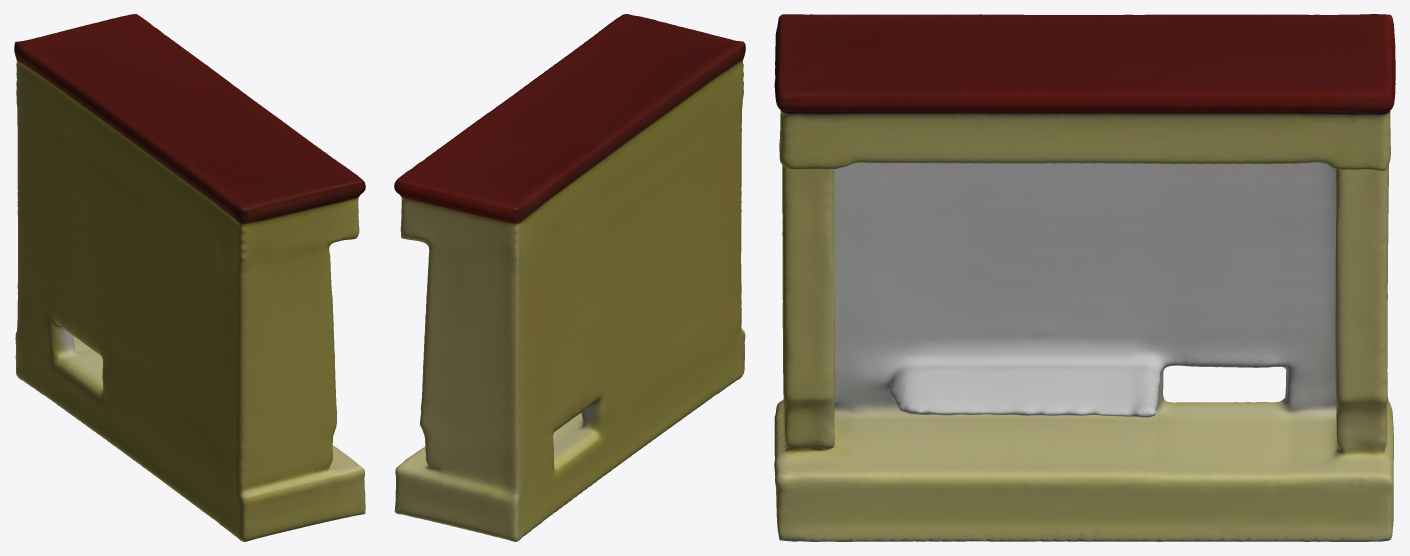
The model's file is Paceka.fbx.
3 views of the same model, side by side, from view 1: azimuth 30°, elevation 25°; view 2: azimuth 150°, elevation 25°; view 3: azimuth 270°, elevation 25° (orthographic). The views are drawn at different scales.
Visible parts, largest first — view 1: geometry_0; view 2: geometry_0; view 3: geometry_0.
Boxes of the visible parts, box(x1,y1,x2,y2) form: geometry_0: box(14, 14, 365, 541); geometry_0: box(394, 14, 745, 541); geometry_0: box(774, 14, 1395, 541).
Bounding box in the file's own units: 0.2769 × 0.7015 × 0.877.
1 material, 1 textured.
